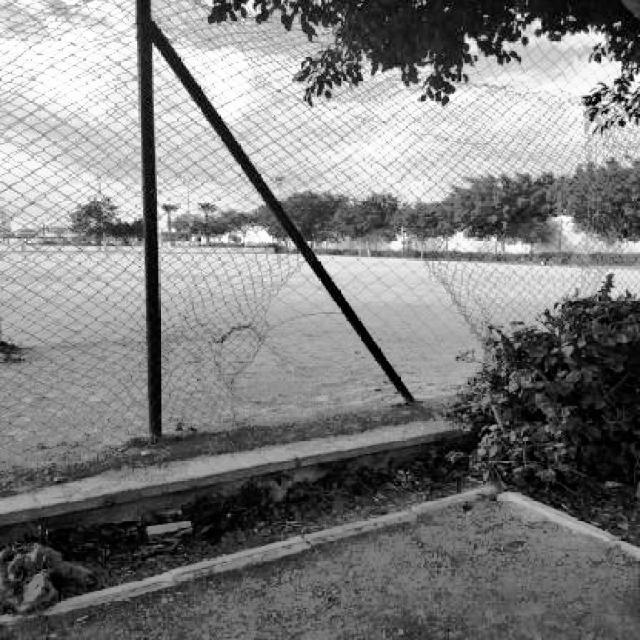anomaly-fence: (174, 183, 496, 392)
